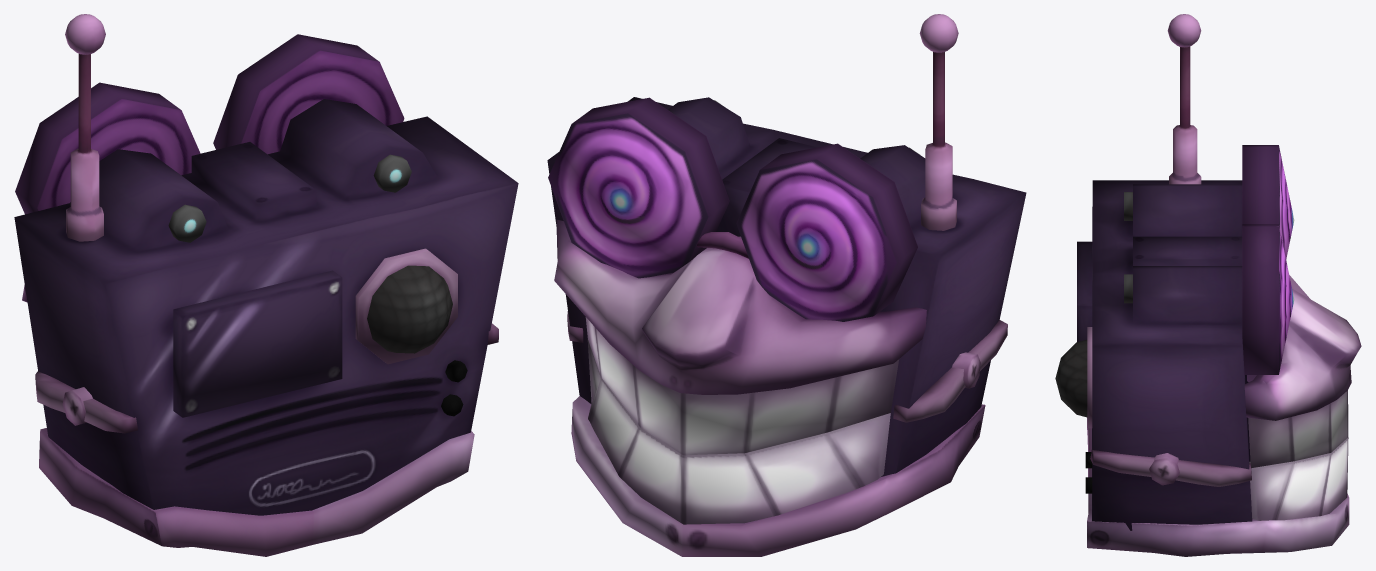
The model's file is prr.glb.
The picture shows the model from 3 angles, left to right: view 1: azimuth 30°, elevation 25°; view 2: azimuth 150°, elevation 25°; view 3: azimuth 270°, elevation 25°; orthographic projection. The views are drawn at different scales.
Visible parts, largest first — view 1: Object; view 2: Object; view 3: Object.
Boxes of the visible parts, box(x1,y1,x2,y2) form: Object: box(14, 14, 518, 556); Object: box(547, 14, 1026, 556); Object: box(1055, 14, 1361, 556).
Size of the model in its own units: 1.65 by 2.05 by 1.29.
Materials: 1 (1 with a texture image).
